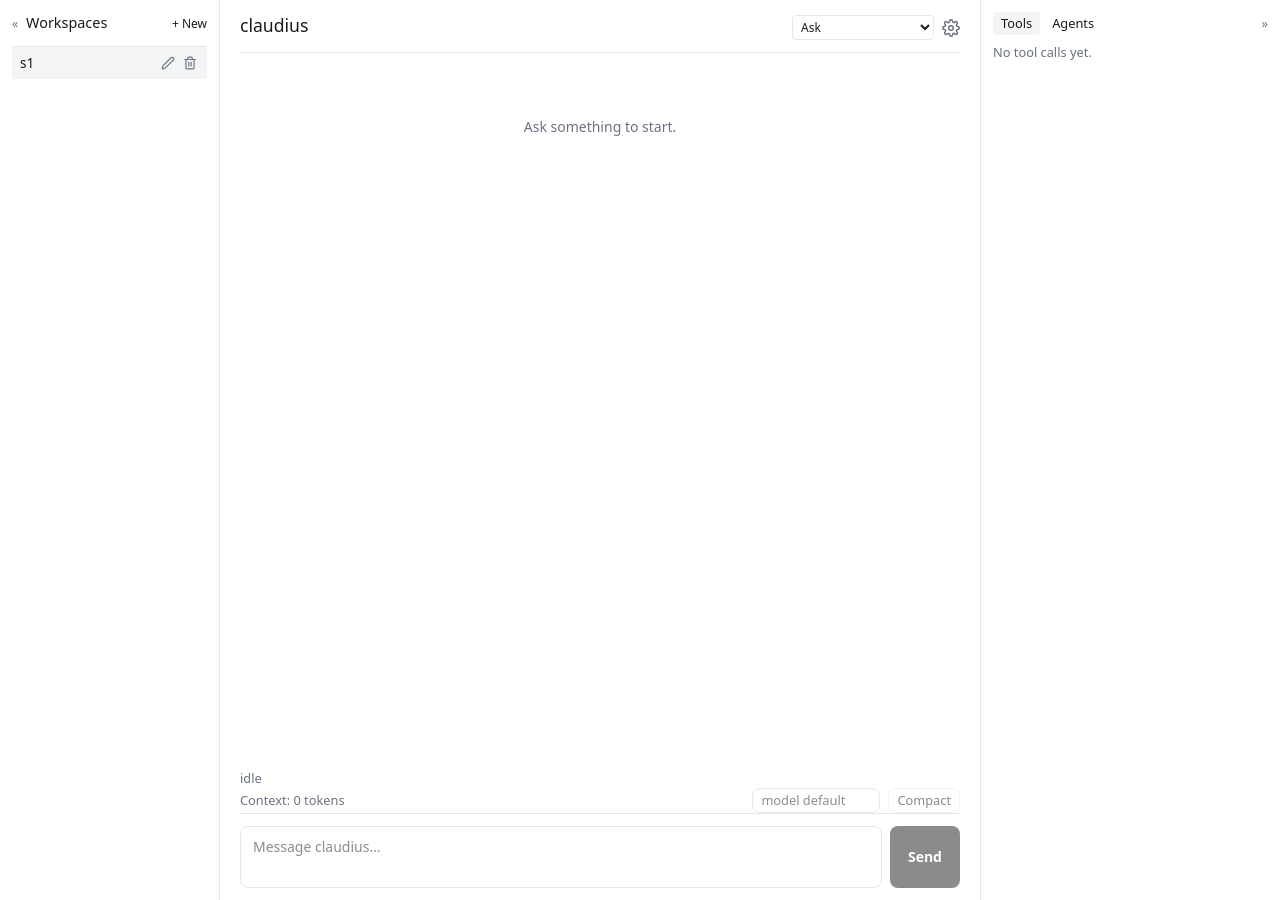
Test: App › hiding the inspector removes its tabs and is remembered
The image size is (1280, 900).
Expected: the number of tabs is 2, [993,12,1040,35]; [1044,12,1102,35]
Click the button named "Hide inspector" at (1265, 24), box [1262,12,1268,35]
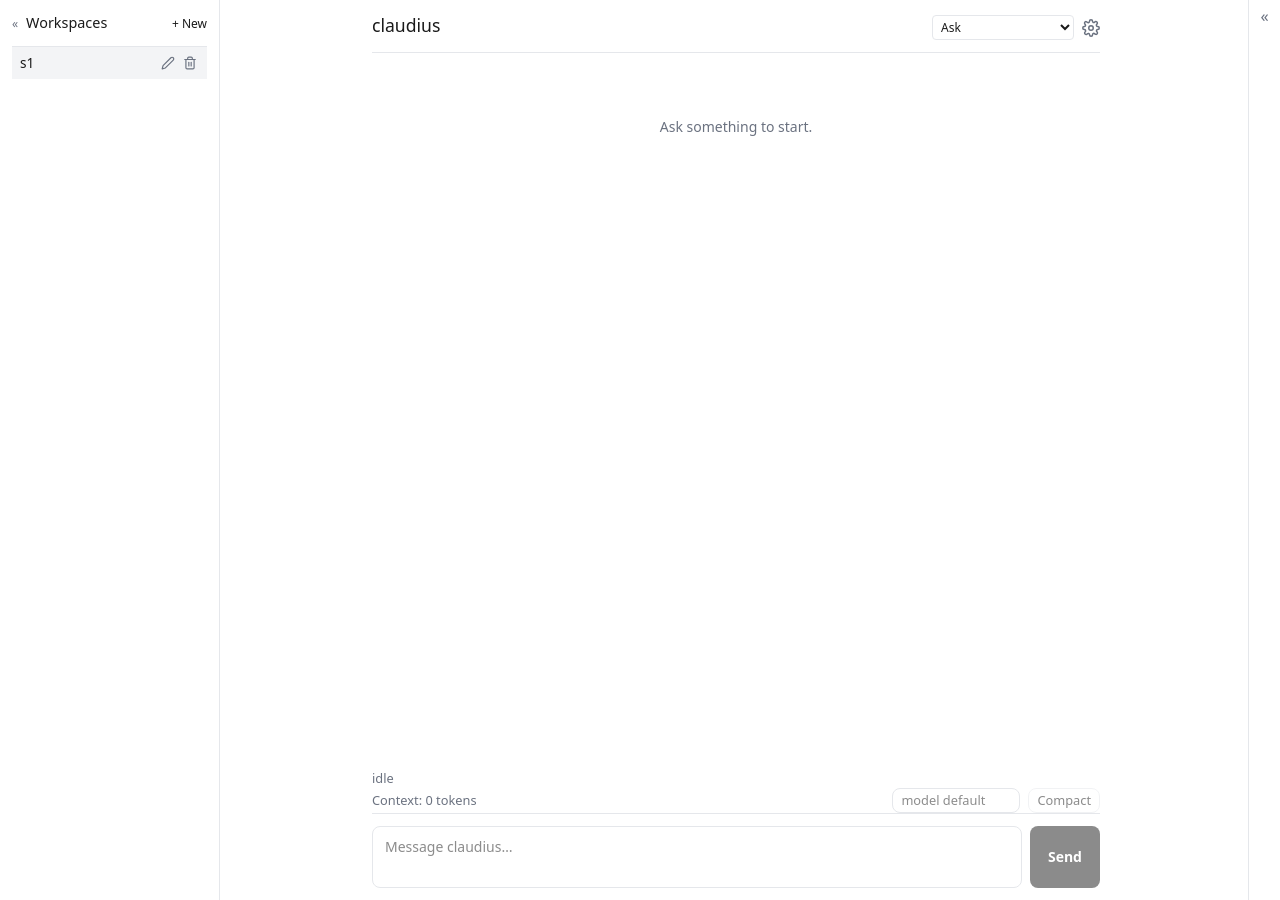
Now no tabs are shown
Click the button named "Show inspector" at (1264, 16), box [1253,4,1276,28]
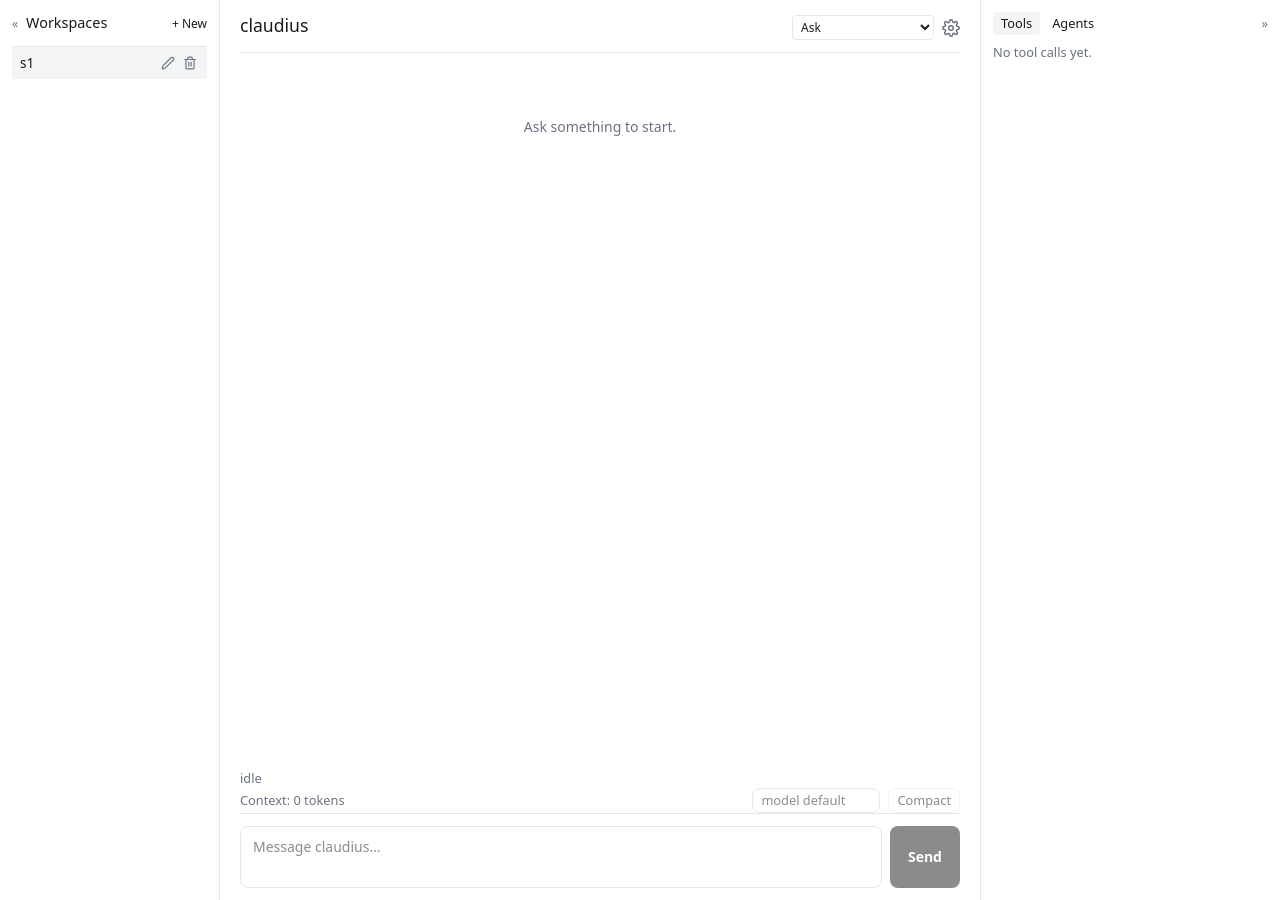
Now the number of tabs is 2, box [993,12,1040,35]; [1044,12,1102,35]
